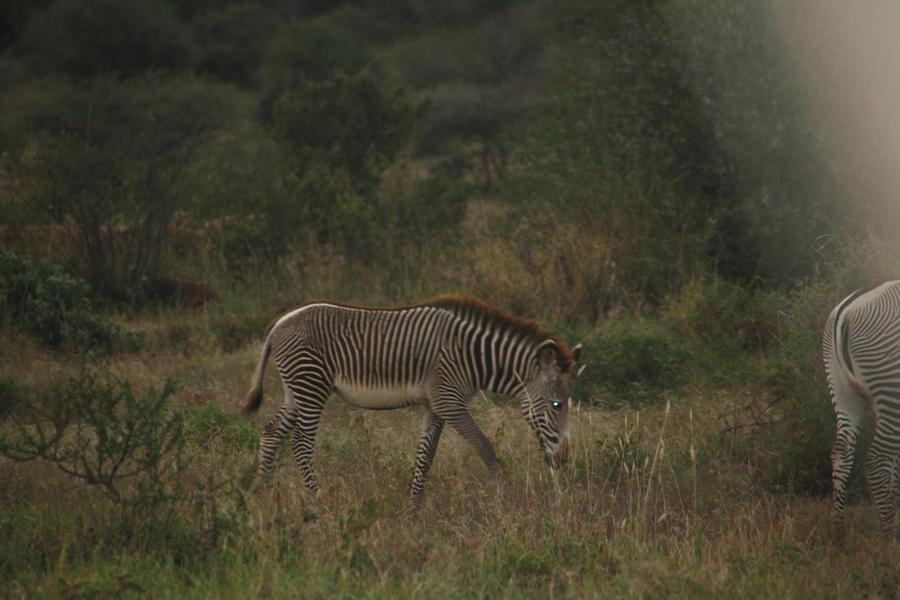zebra_grevys: (260, 293, 467, 404)
